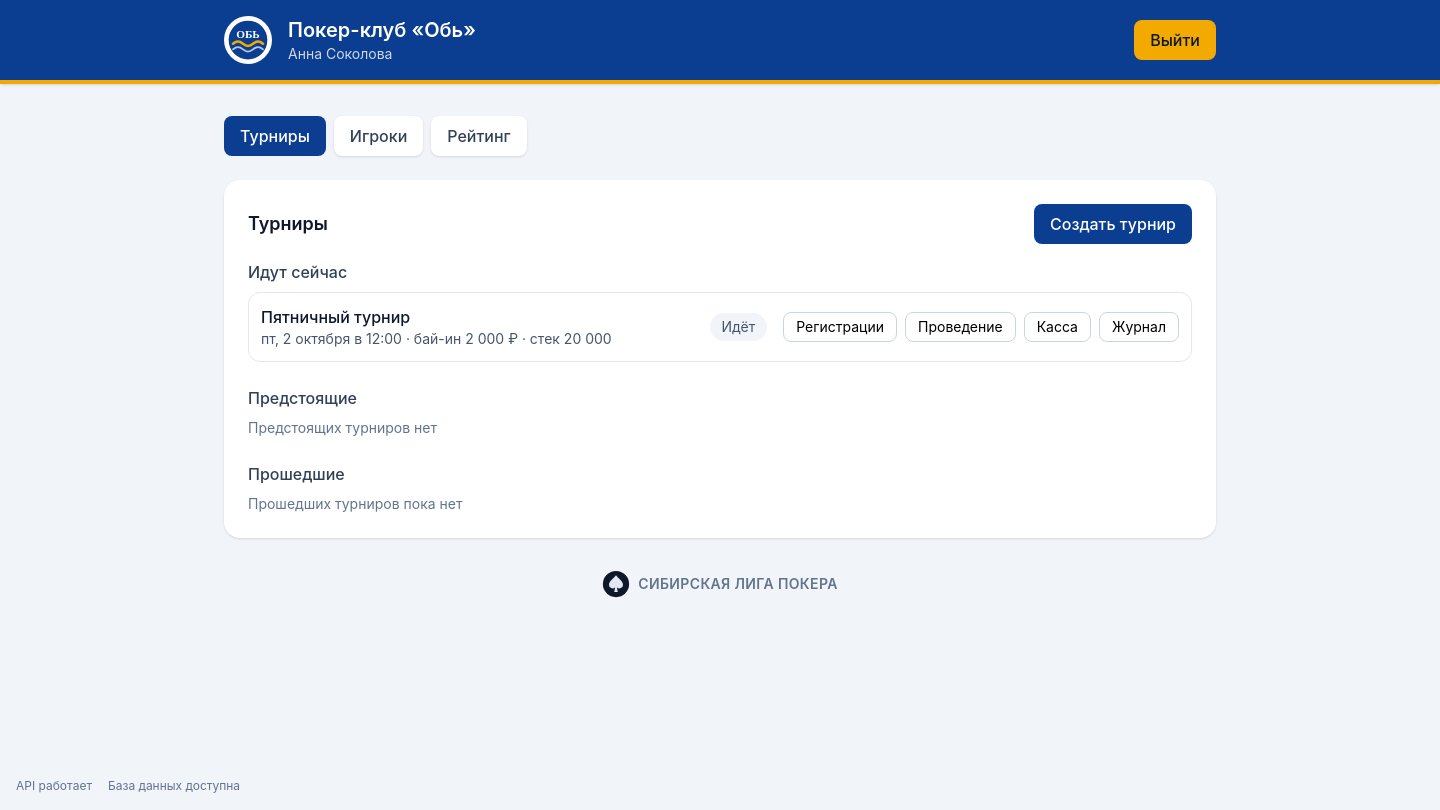
Test: tournament action log › opens from the running of the tournament
Click the button "Проведение": (960, 327) [905,312,1016,342]
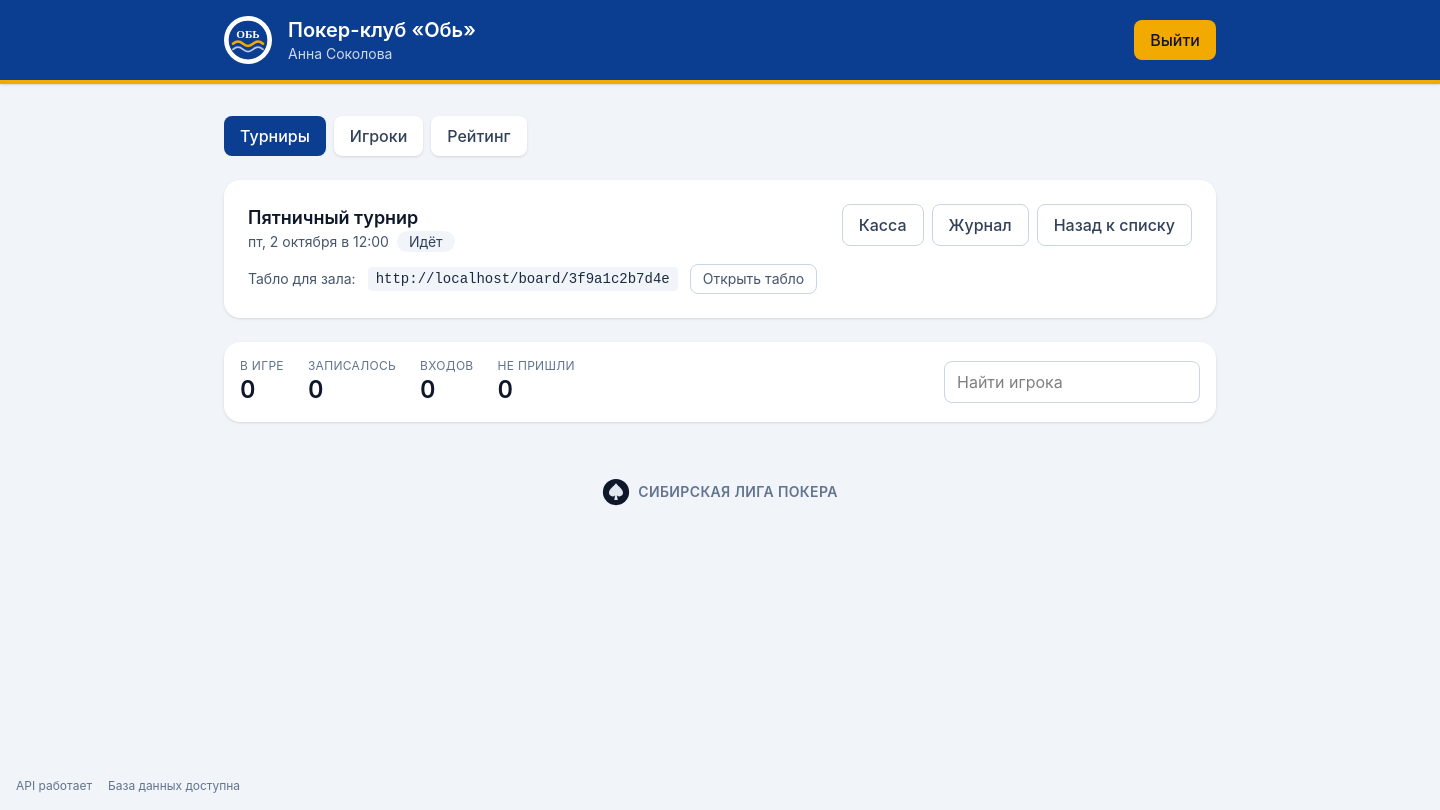
Click the button "Журнал": (980, 225) [932,204,1029,246]
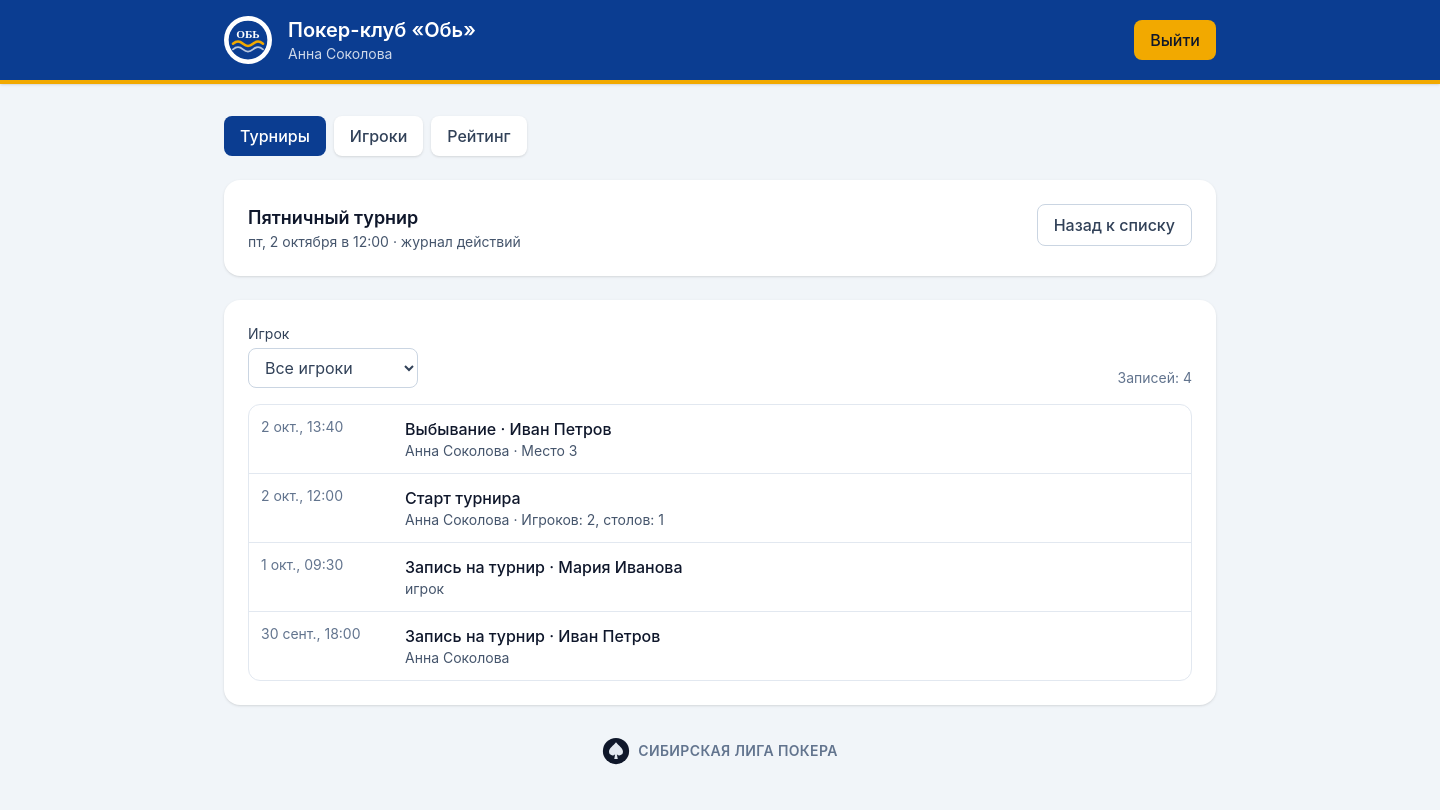
Expected: the list named "Журнал действий" is shown, [248,404,1192,681]
